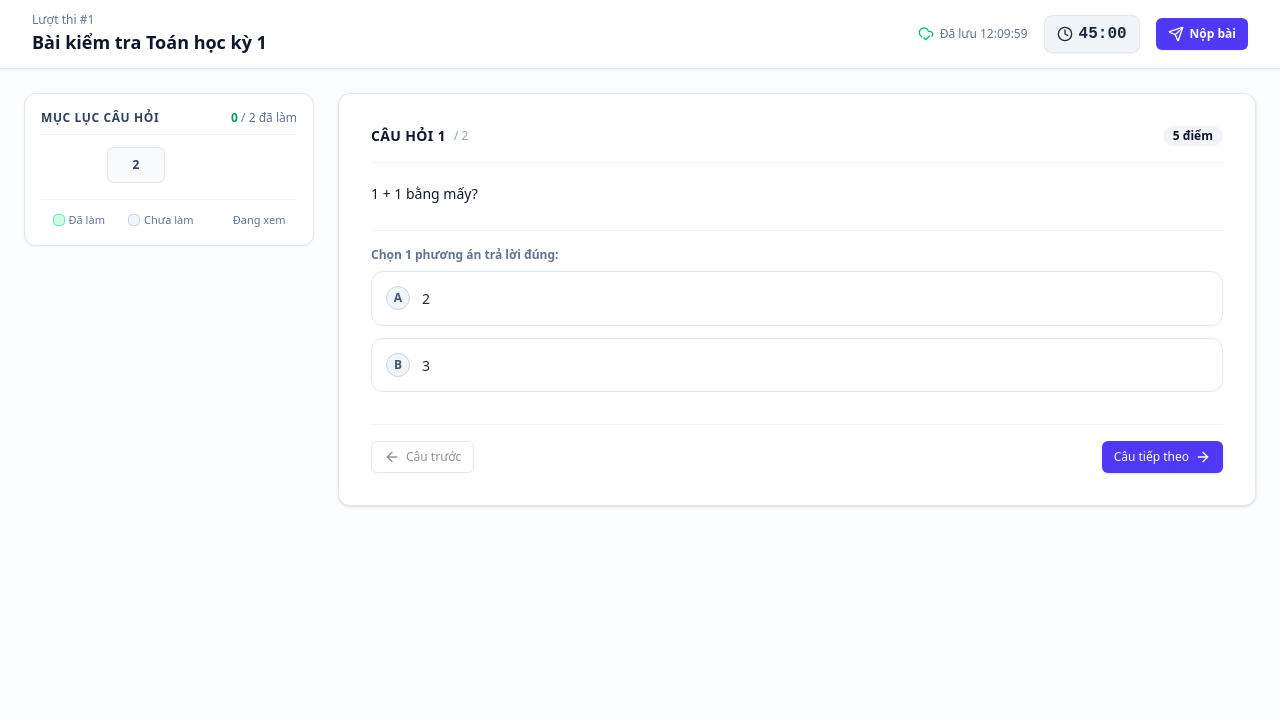
Attempts Feature Integration (Stage S08: Student Attempt Engine) › TakeTestPage › opens submit confirmation modal when Nộp bài is clicked
The width and height of the screenshot is (1280, 720).
Check: the text "1 + 1 bằng mấy?" is shown, box [371,184,478,203]
Step 1. Click the button "Nộp bài" → (1202, 34), box [1156,18,1248,50]
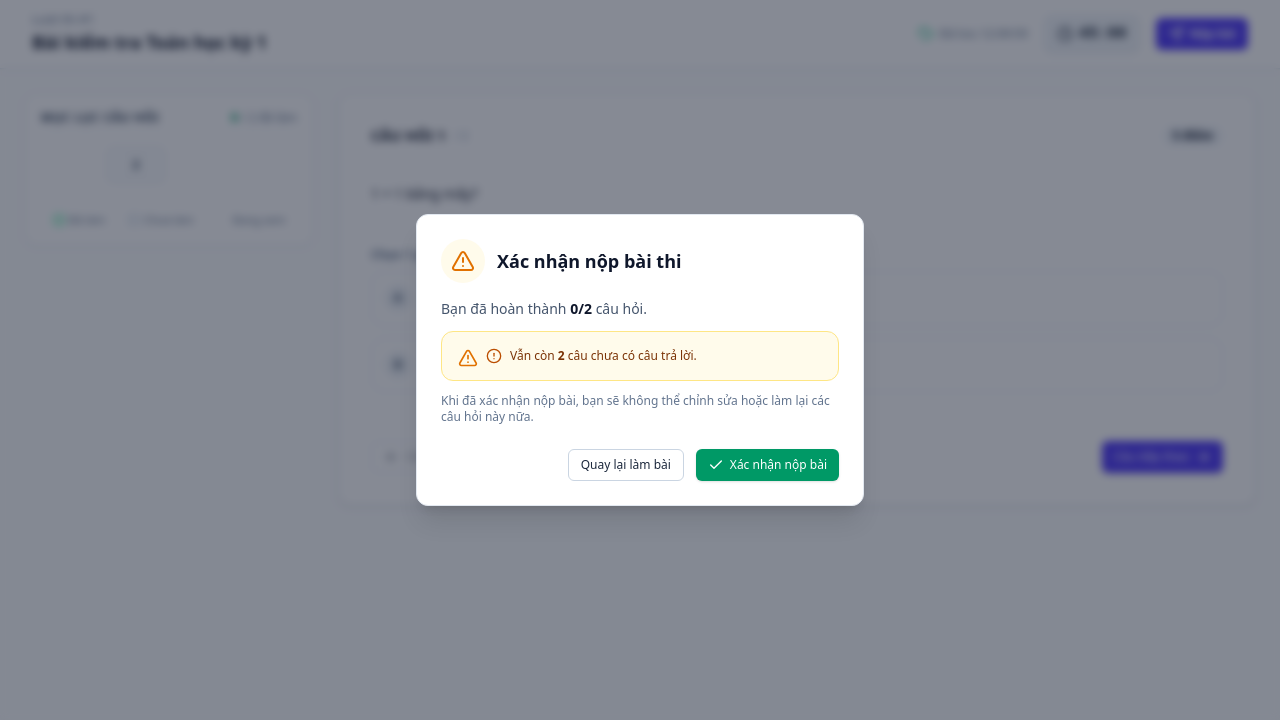
Check: the heading "Xác nhận nộp bài thi" is shown, box [497,247,682,275]
Check: the button "Quay lại làm bài" is shown, box [568,449,684,481]
Check: the button "Xác nhận nộp bài" is shown, box [696,449,839,481]
